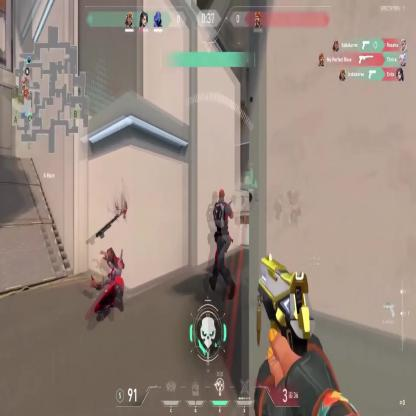enemy: (209, 187, 237, 299)
enemy_head: (217, 185, 226, 204)
